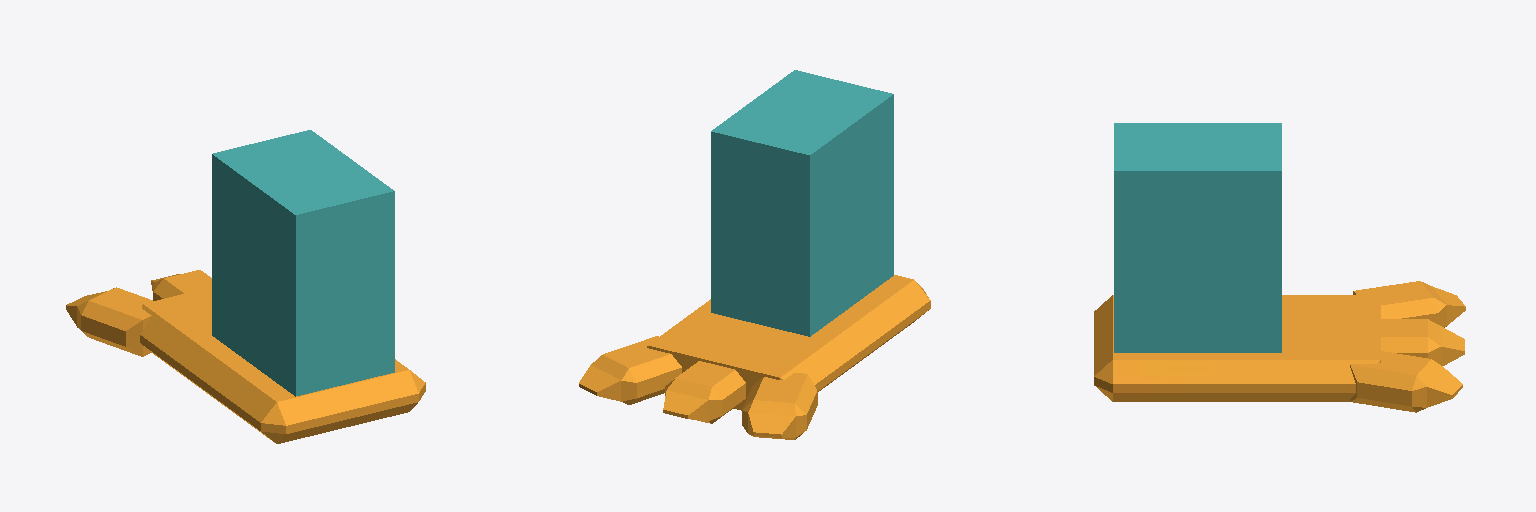
The picture shows the model from 3 angles: view 1: azimuth 30°, elevation 25°; view 2: azimuth 150°, elevation 25°; view 3: azimuth 270°, elevation 25°; orthographic projection.
Visible parts, largest first — view 1: R_pantorrilla, R_Pie; view 2: R_pantorrilla, R_Pie; view 3: R_pantorrilla, R_Pie.
Boxes of the visible parts, box(x1,y1,x2,y2) form: R_pantorrilla: box(212, 130, 394, 396); R_Pie: box(66, 270, 425, 443); R_pantorrilla: box(711, 70, 893, 336); R_Pie: box(579, 275, 930, 439); R_pantorrilla: box(1114, 123, 1281, 352); R_Pie: box(1094, 281, 1465, 412).
Size of the model in its own units: 0.3654 by 0.3658 by 0.5512.
2 materials, 1 textured.